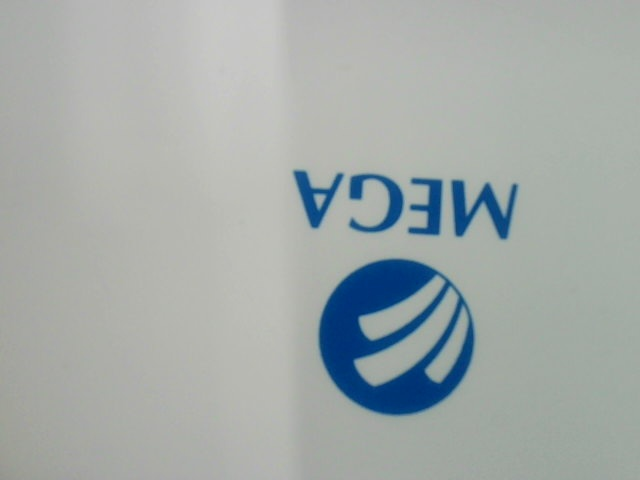AM_ZTEMEGA: (279, 155, 539, 434)
